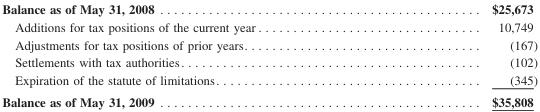table: (1, 0, 536, 108)
table column: (1, 0, 375, 108), (375, 0, 536, 108)
table row: (1, 70, 536, 90), (1, 17, 536, 35), (1, 35, 536, 53), (1, 90, 536, 108), (1, 0, 536, 17), (1, 53, 536, 70)
